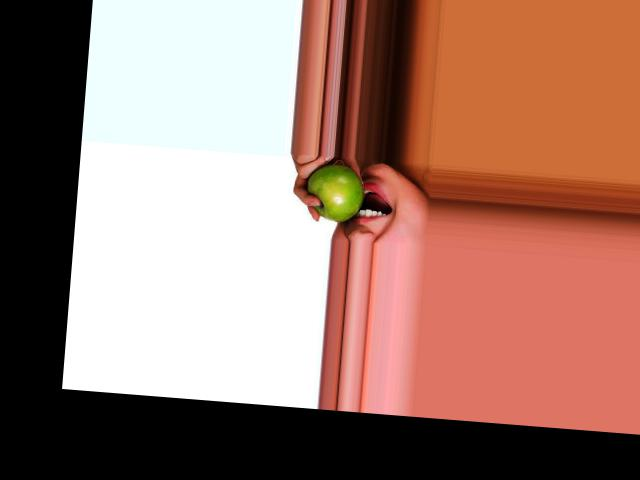apple: (302, 162, 368, 224)
